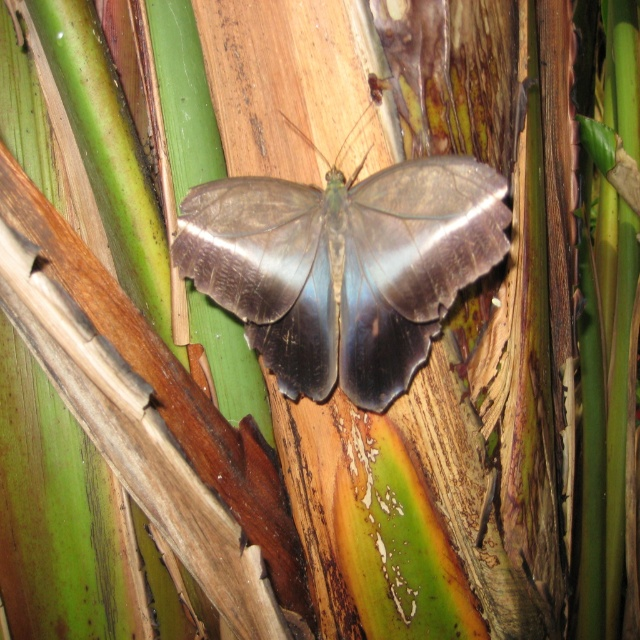Butterfly: (168, 118, 504, 423)
